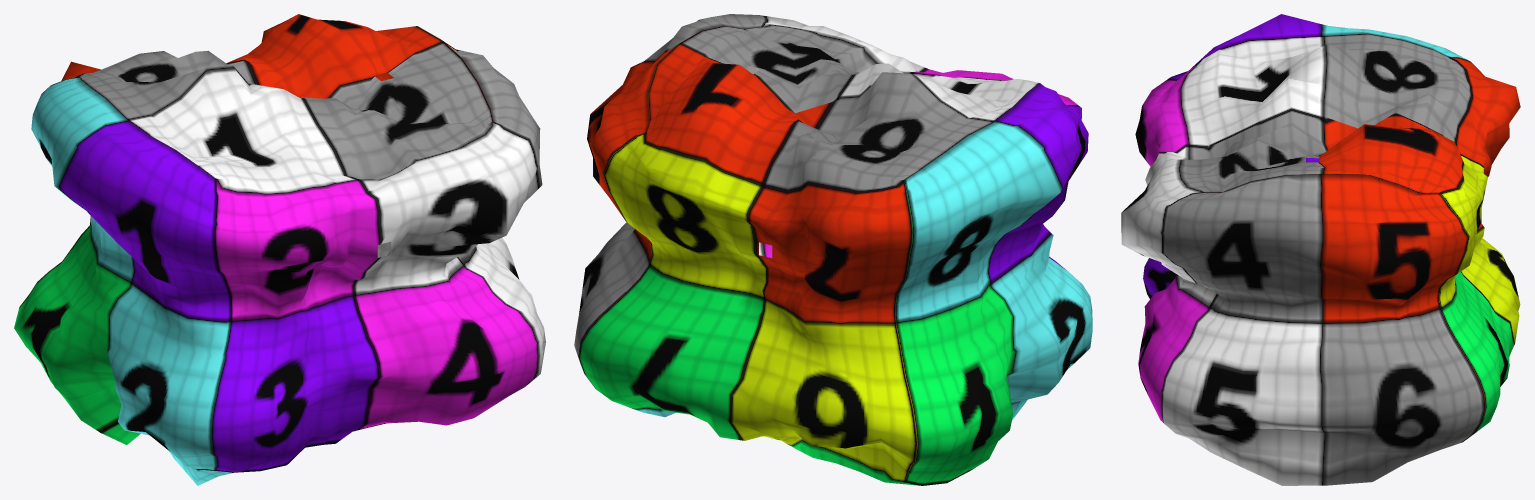
File: Medium cave 2.fbx
The picture shows the model from 3 angles, left to right: view 1: azimuth 30°, elevation 25°; view 2: azimuth 150°, elevation 25°; view 3: azimuth 270°, elevation 25°; orthographic projection. The views are drawn at different scales.
Parts seen in each view (by area): view 1: pCube12; view 2: pCube12; view 3: pCube12.
Boxes of the visible parts, <box> form: pCube12: <box>14,14,545,485</box>; pCube12: <box>574,14,1092,485</box>; pCube12: <box>1121,14,1520,485</box>.
Bounding box in the file's own units: 574 × 462 × 486.
1 material, 1 textured.
